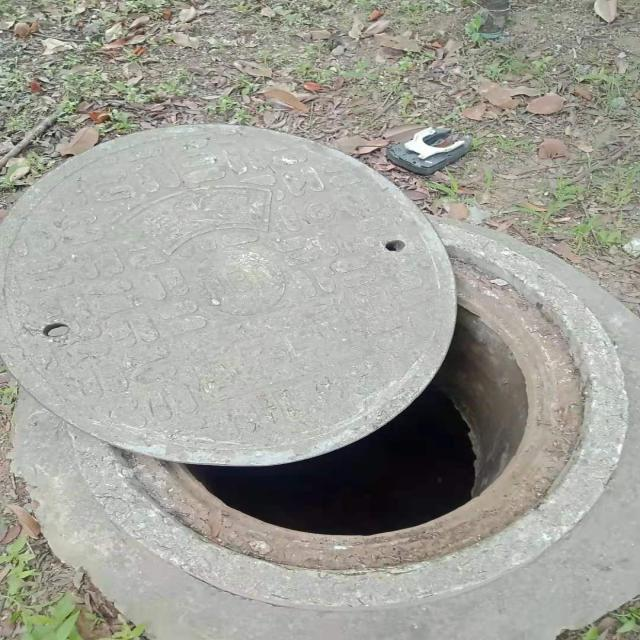Faulty: (1, 121, 640, 609)
